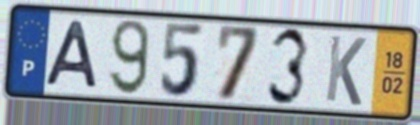3: (263, 26, 318, 109)
5: (158, 22, 208, 102)
7: (214, 22, 264, 105)
9: (106, 18, 153, 98)
A: (42, 18, 101, 91)
K: (322, 32, 369, 109)
